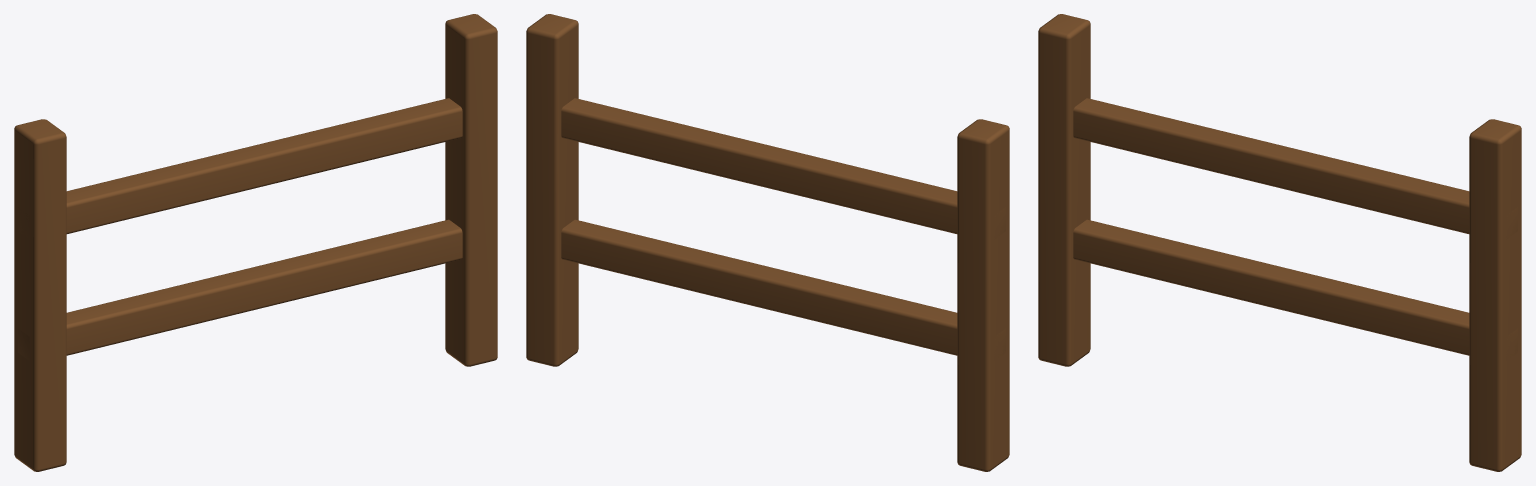
Rendered from SM_Env_FencePanel.fbx.
3 renders of one model, left to right at view 1: azimuth 30°, elevation 25°; view 2: azimuth 150°, elevation 25°; view 3: azimuth 330°, elevation 25°, orthographic.
Parts seen in each view (by area): view 1: Fence_post, Fence_rail, Fence_rail.001, Fence_post.001; view 2: Fence_post, Fence_rail.001, Fence_rail, Fence_post.001; view 3: Fence_post.001, Fence_rail.001, Fence_rail, Fence_post.
Boxes of the visible parts, x1=… form: Fence_post: x1=14, y1=119, x2=66, y2=471; Fence_rail: x1=18, y1=219, x2=462, y2=360; Fence_rail.001: x1=18, y1=98, x2=462, y2=238; Fence_post.001: x1=445, y1=14, x2=497, y2=366; Fence_post: x1=957, y1=119, x2=1009, y2=471; Fence_rail.001: x1=561, y1=98, x2=1005, y2=238; Fence_rail: x1=561, y1=219, x2=1005, y2=359; Fence_post.001: x1=526, y1=14, x2=578, y2=366; Fence_post.001: x1=1469, y1=119, x2=1521, y2=471; Fence_rail.001: x1=1073, y1=98, x2=1517, y2=238; Fence_rail: x1=1073, y1=219, x2=1517, y2=359; Fence_post: x1=1038, y1=14, x2=1090, y2=366.
Size of what is drawn, in the model's own units: 140 by 12 by 96.
